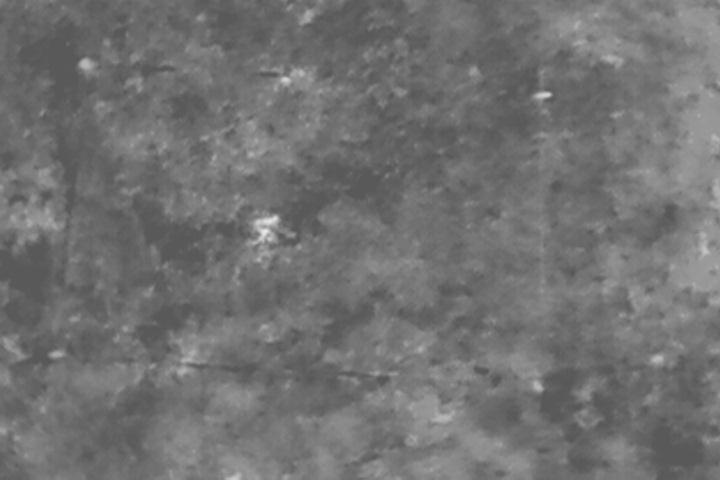landmine: (254, 212, 281, 240)
